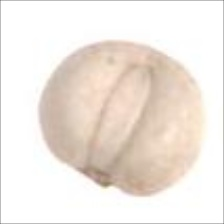L5: (85, 61, 154, 175), (72, 163, 131, 195), (134, 41, 185, 73)
L6: (34, 37, 208, 199)
